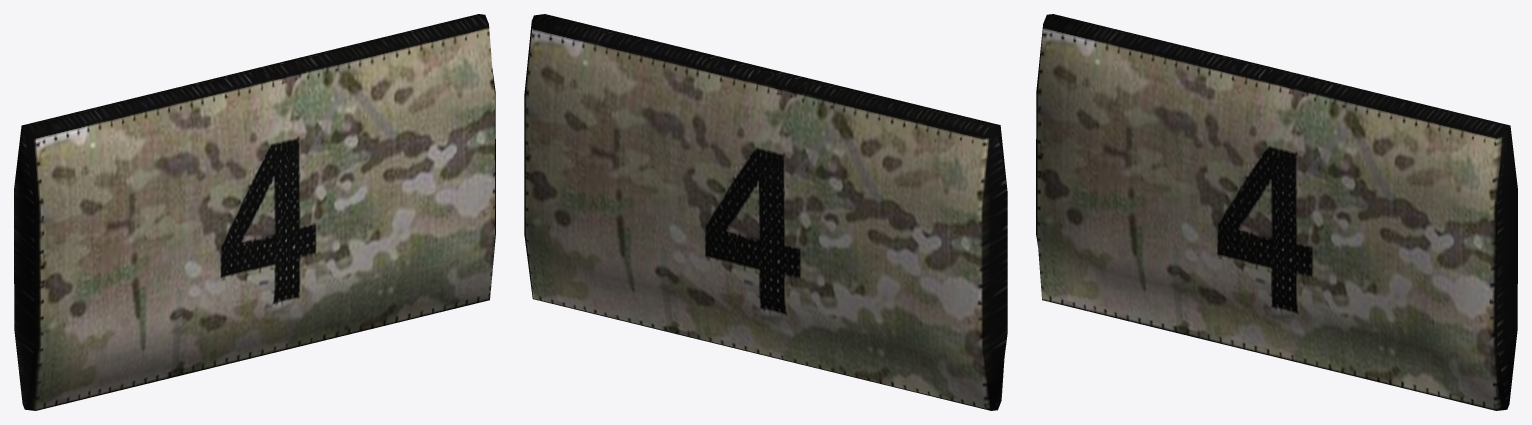
File: Havoc4.fbx
3 views of the same model, side by side, from view 1: azimuth 30°, elevation 25°; view 2: azimuth 150°, elevation 25°; view 3: azimuth 330°, elevation 25° (orthographic).
Visible parts, largest first — view 1: FlagPatch; view 2: FlagPatch; view 3: FlagPatch.
Boxes of the visible parts, x1,y1,x2,y2 form: FlagPatch: [14, 14, 495, 410]; FlagPatch: [524, 14, 1007, 410]; FlagPatch: [1036, 14, 1517, 410].
Size of the model in its own units: 9.23 by 5.38 by 0.9201.
